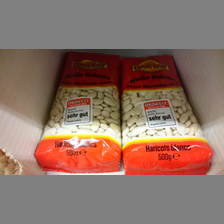beans: (121, 54, 213, 177), (36, 48, 120, 170)
